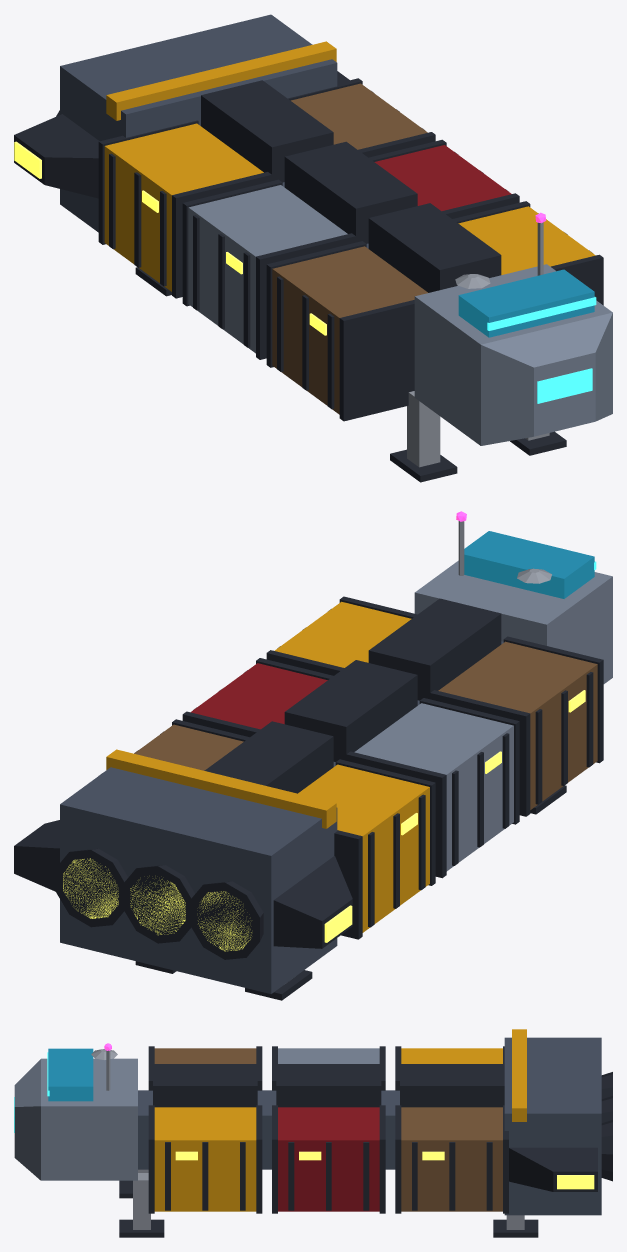
The model's file is spaceship_freighter.glb.
3 views of the same model, one above another, from view 1: azimuth 30°, elevation 25°; view 2: azimuth 150°, elevation 25°; view 3: azimuth 270°, elevation 25° (orthographic). The views are drawn at different scales.
Visible parts, largest first — view 1: spaceship_freighter; view 2: spaceship_freighter; view 3: spaceship_freighter.
Part boxes in pixels (x1,y1,x2,y2): spaceship_freighter: [14, 14, 612, 482]; spaceship_freighter: [14, 511, 612, 1000]; spaceship_freighter: [14, 1029, 612, 1237].
Size of the model in its own units: 3.55 by 2.69 by 8.01.
